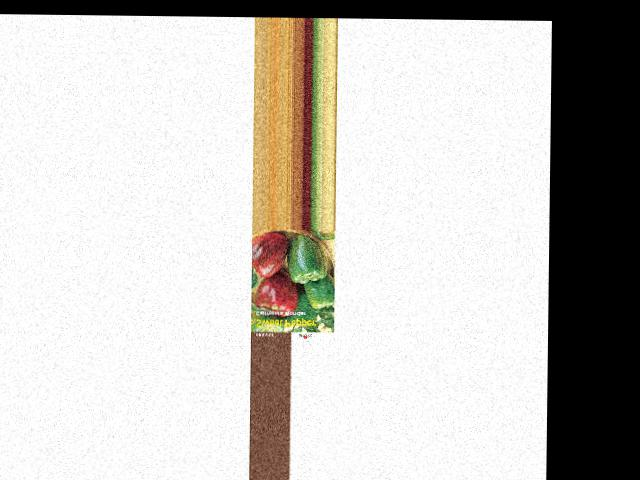bell_pepper: (307, 268, 336, 312)
